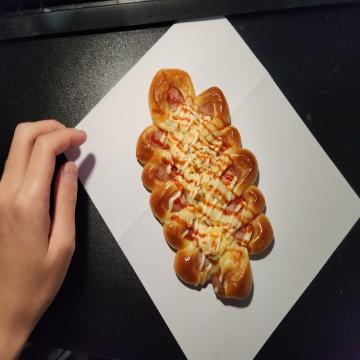pizza_bread: (132, 70, 276, 305)
